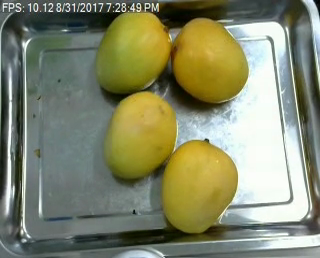Mango: (162, 139, 238, 232), (171, 14, 248, 101), (101, 91, 174, 179), (96, 9, 172, 93)
